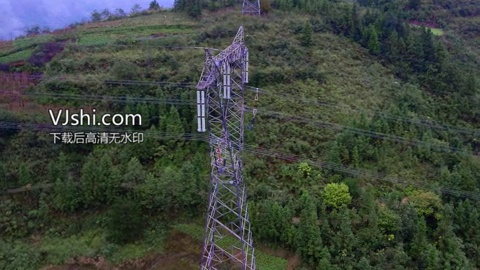tower_foot: (187, 23, 260, 270), (202, 218, 255, 268)
tower_head: (191, 26, 252, 180)
